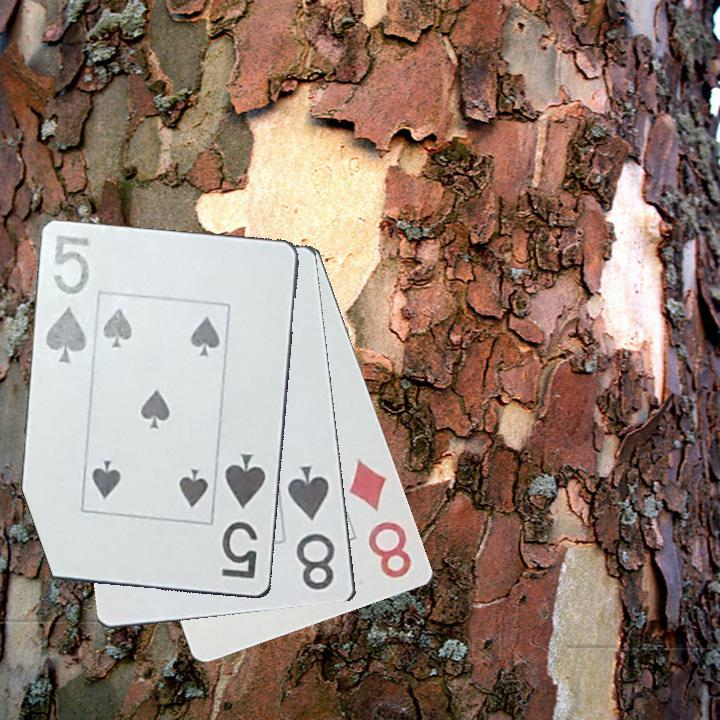5s: (42, 232, 93, 367), (218, 450, 270, 582)
8d: (346, 455, 416, 583)
8s: (284, 462, 339, 594)
